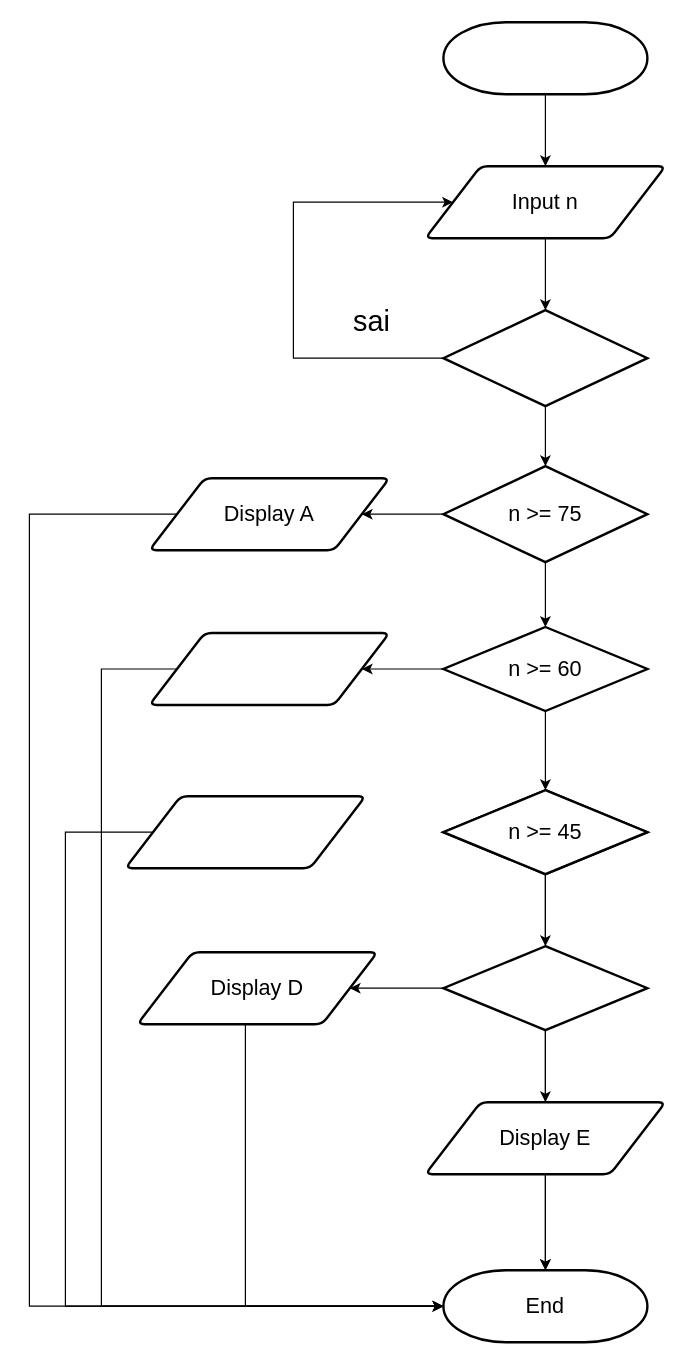
This 688x1363 diagram has some shape labels left out. Each missing label, with the centre of its shape:
Begin: (x=545, y=57)
Display B: (x=269, y=668)
Display C: (x=245, y=831)
n >= 100: (x=545, y=357)
n >= 35: (x=545, y=987)
